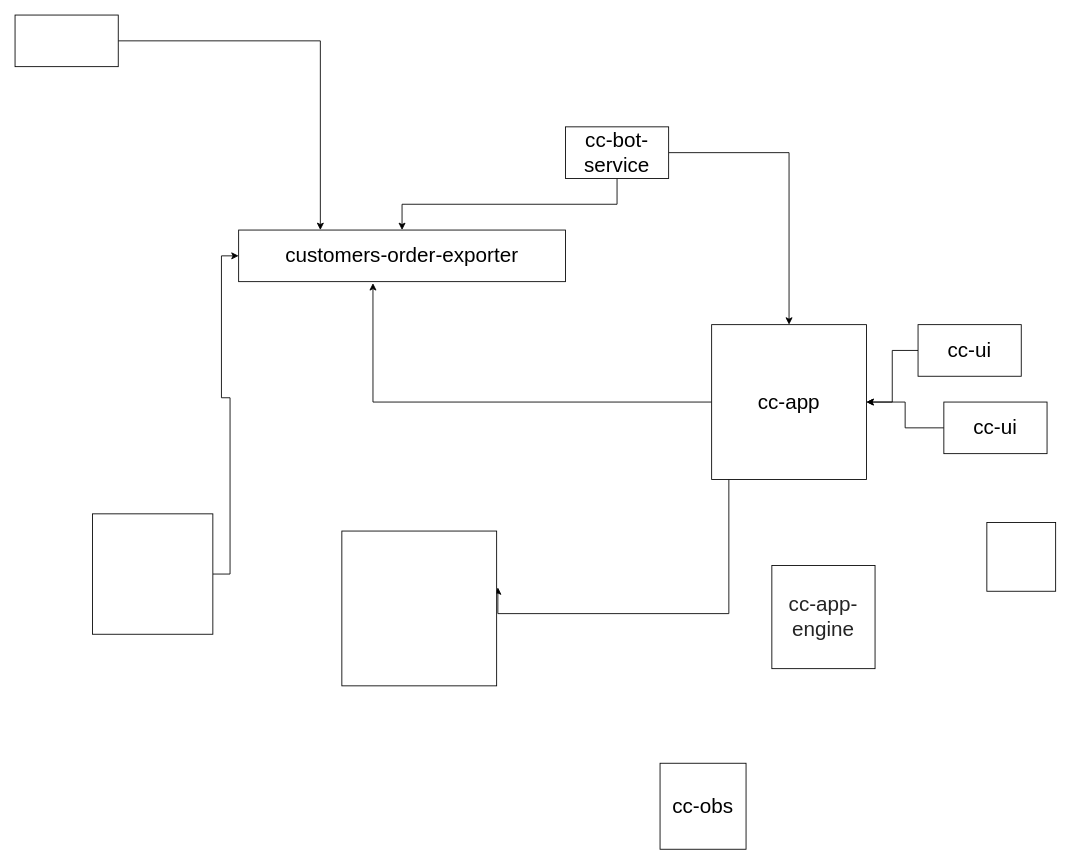
The diagram is 1071 pixels wide and 864 high, and some of its shapes have lost their labels. The shapes that lost their labels are listed below. From the top down, each one's centre as x and y in pixels, then its label:
[66,40]: obs-api
[152,573]: cc-help-service
[1021,556]: erm
[419,608]: cc-uniform -workspace ERM-backend
